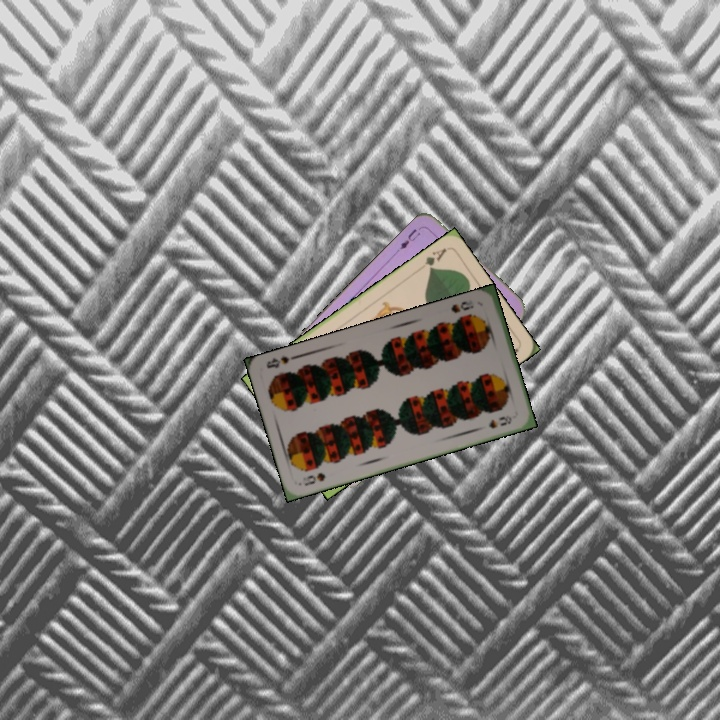EU: (393, 222, 426, 255)
GA: (421, 244, 449, 273)
S8: (447, 296, 476, 316), (300, 468, 328, 488)
